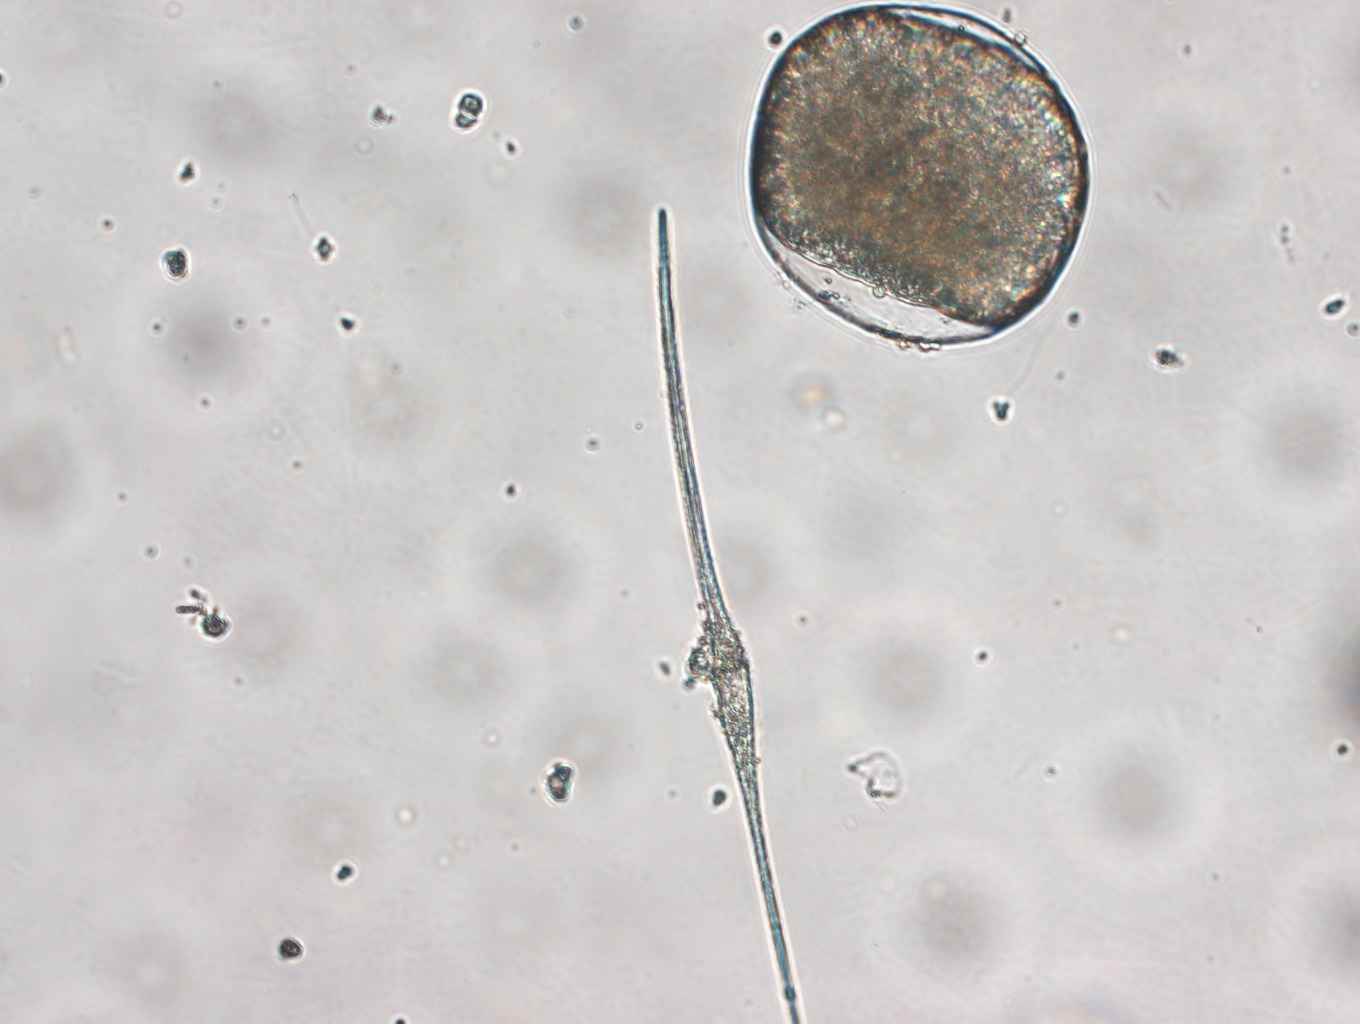ceratium fusus: (656, 205, 801, 1024)
coscinodiscus: (743, 1, 1090, 346)
